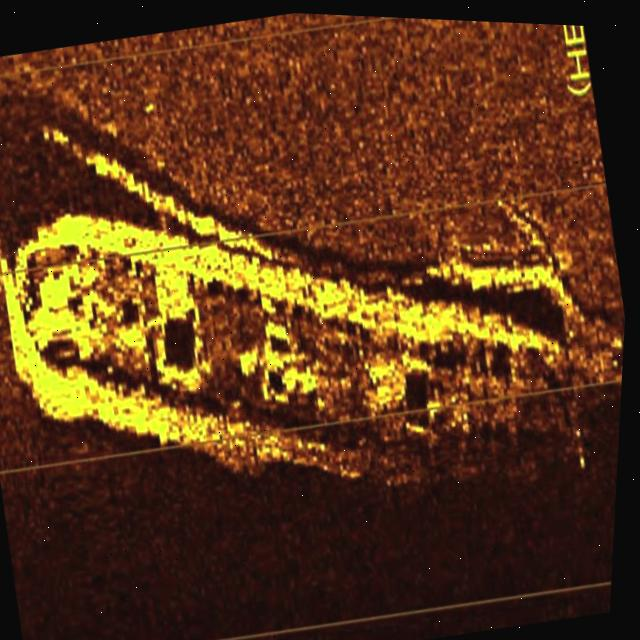shipwreck: (0, 73, 617, 582)
